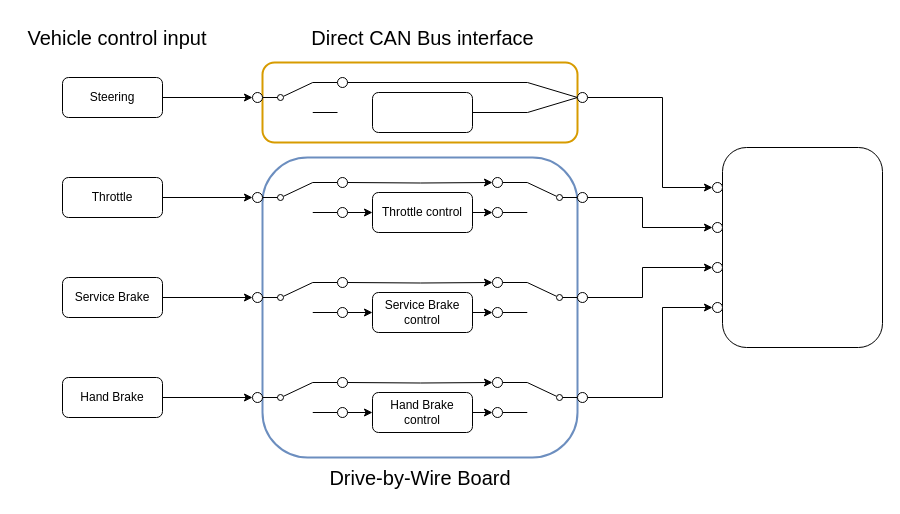
The diagram is 900 pixels wide and 514 high, and some of its shapes have lost their labels. The centre of each missing label's shape, as x and y in pixels:
"Steering control" belongs at pixel 422 112.
"Vehicle's Electronic Control Unit (ECU)" belongs at pixel 802 247.
